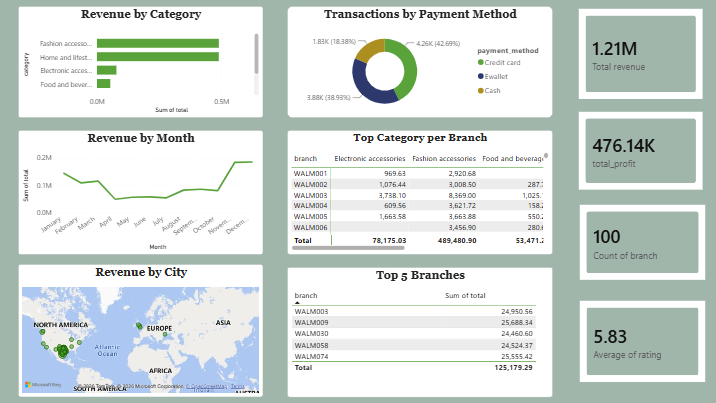

The page's visual inventory and layout, read from the dashboard file:
{"tool":"powerbi","page":{"name":"Page 1","canvas":[1280,720],"ordinal":0},"visuals":[{"type":"cardVisual","fields":{"Data":["Sum(public walmart.total)"]},"box":[1028.2,11.5,231.8,171.4],"z":0},{"type":"cardVisual","fields":{"Data":["public walmart.total_profit"]},"box":[1028.2,194.4,231.8,149.8],"z":1000},{"type":"cardVisual","fields":{"Data":["Count(public walmart.branch)"]},"box":[1029.6,360,234.7,144],"z":2000},{"type":"clusteredBarChart","title":"Revenue by Category","fields":{"Category":["public walmart.category"],"Y":["Sum(public walmart.total)"]},"box":[31.7,11.5,437.8,200.2],"z":4000},{"type":"donutChart","title":"Transactions by Payment Method","fields":{"Category":["public walmart.payment_method"],"Y":["CountNonNull(public walmart.invoice_id)"]},"box":[512.6,11.5,475.2,200.2],"z":5000},{"type":"map","title":"Revenue by City","fields":{"Category":["public walmart.city"],"Size":["Sum(public walmart.total)"]},"box":[31.7,472.3,437.8,237.6],"z":6000},{"type":"lineChart","title":"Revenue by Month","fields":{"Category":["public walmart.date.Variation.Date Hierarchy.Month"],"Y":["Sum(public walmart.total)"]},"box":[31.7,231.8,437.8,223.2],"z":7000},{"type":"pivotTable","title":"Top Category per Branch","fields":{"Rows":["public walmart.branch"],"Columns":["public walmart.category"],"Values":["Sum(public walmart.total)"]},"box":[512.6,231.8,475.2,223.2],"z":8000},{"type":"tableEx","title":"Top 5 Branches","fields":{"Values":["public walmart.branch","Sum(public walmart.total)"]},"box":[512.6,476.6,475.2,233.3],"z":8001},{"type":"cardVisual","fields":{"Data":["Avg(public walmart.rating)"]},"box":[1029.6,532.8,234.7,155.5],"z":8002}]}

Visuals, with their boxes in screenshot pixels (x1, y1, x2, y2), scaled from the page's 1280x720 canvas onto the 716x403 screenshot:
cardVisual - Sum(public walmart.total): left=575, top=6, right=705, bottom=102
cardVisual - public walmart.total_profit: left=575, top=109, right=705, bottom=193
cardVisual - Count(public walmart.branch): left=576, top=202, right=707, bottom=282
"Revenue by Category" clusteredBarChart: left=18, top=6, right=263, bottom=118
"Transactions by Payment Method" donutChart: left=287, top=6, right=553, bottom=118
"Revenue by City" map: left=18, top=264, right=263, bottom=397
"Revenue by Month" lineChart: left=18, top=130, right=263, bottom=255
"Top Category per Branch" pivotTable: left=287, top=130, right=553, bottom=255
"Top 5 Branches" tableEx: left=287, top=267, right=553, bottom=397
cardVisual - Avg(public walmart.rating): left=576, top=298, right=707, bottom=385
